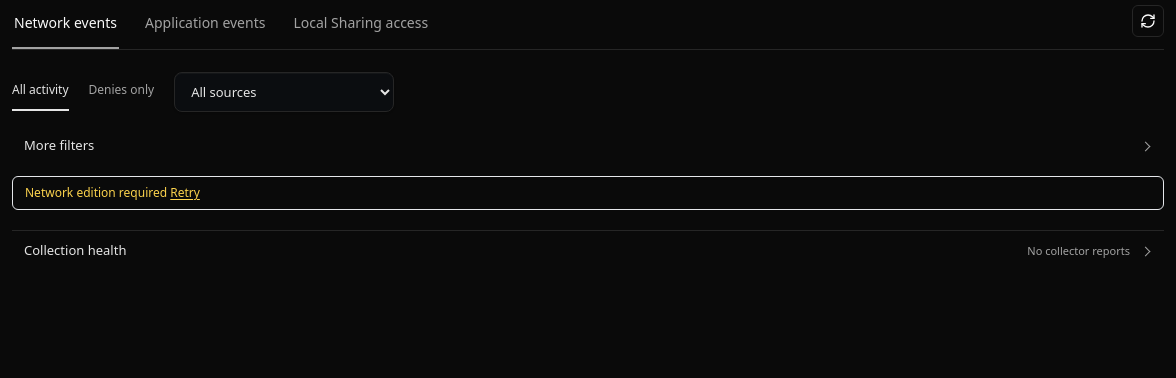
Unified Beam access evidence › keeps Beam selectable after the default network edition rejects and requests a separate scoped source
The width and height of the screenshot is (1176, 378).
expect the text "Network edition required" is shown: met, box [25,184,167,201]
Click the link "Local Sharing access". click: [361, 22]
box: [293,13,428,32]
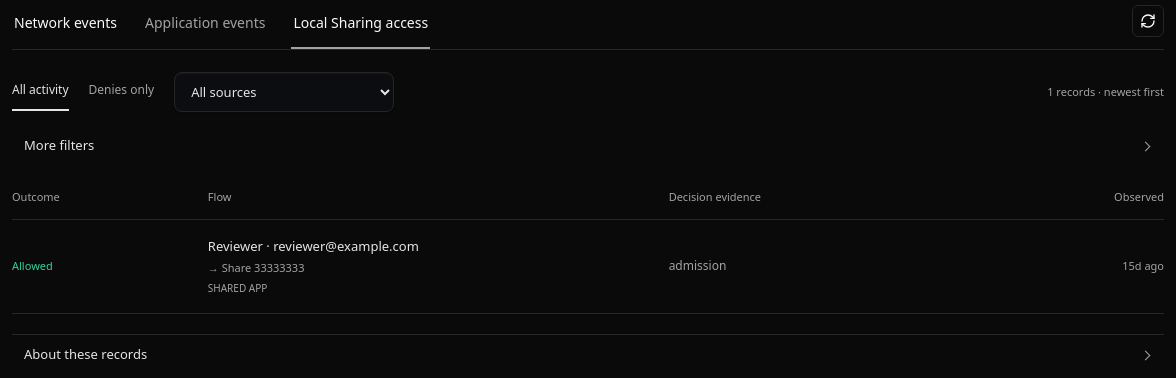
expect the text "Network edition required" is gone: met
